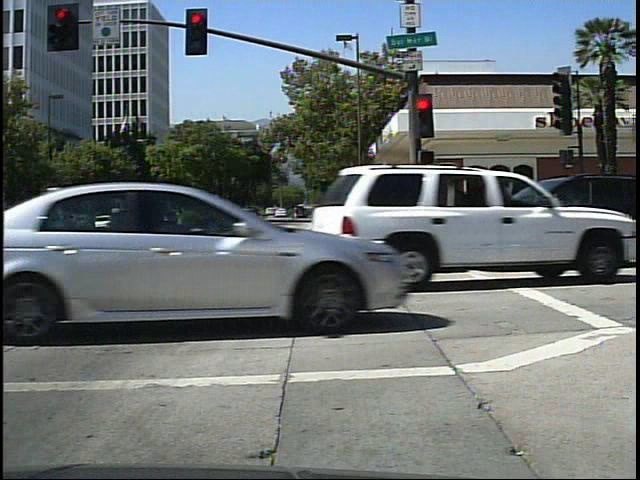person: (289, 203, 302, 221)
